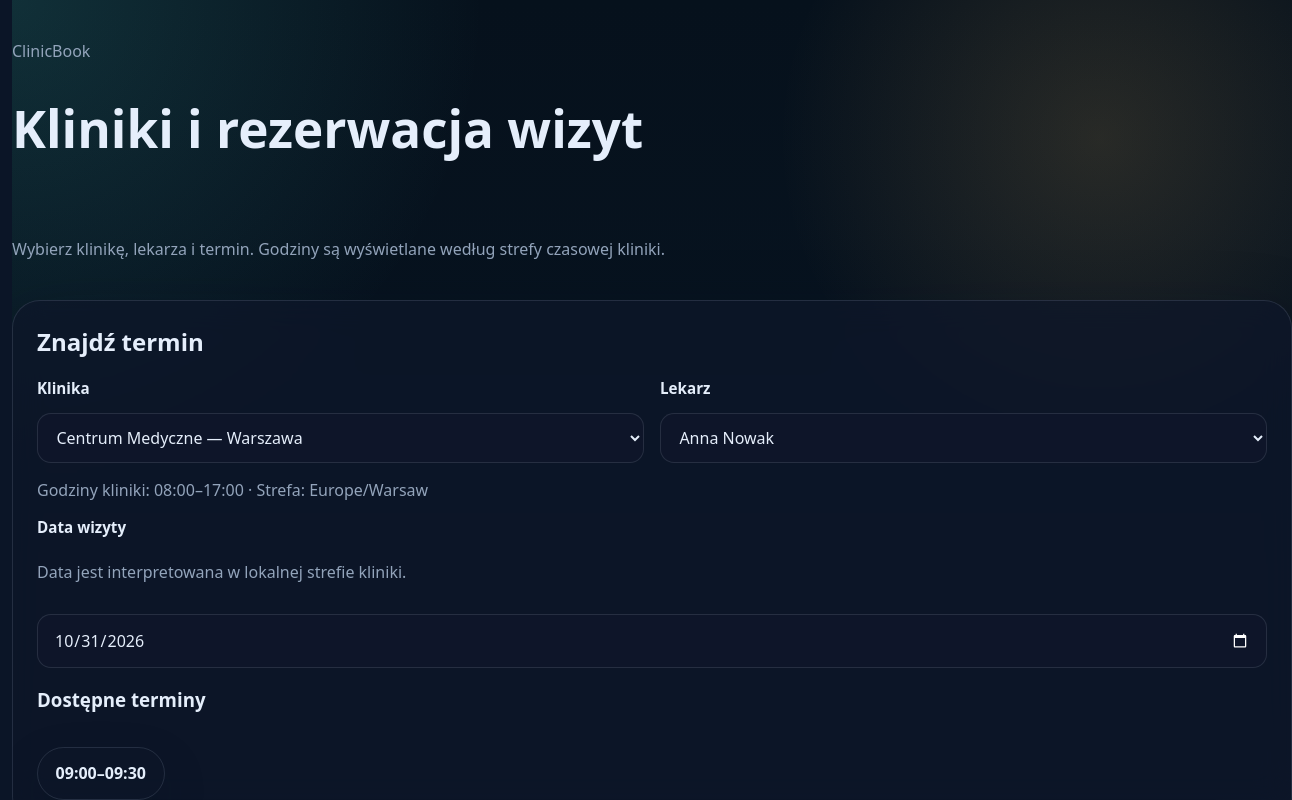
Test: Clinics page › shows a booking conflict and refreshes the available slots
What coordinates should you click on to do the following:
click the button "09:00–09:30"
I would click on:
 (101, 773)
Its box is x1=37 y1=747 x2=164 y2=799.
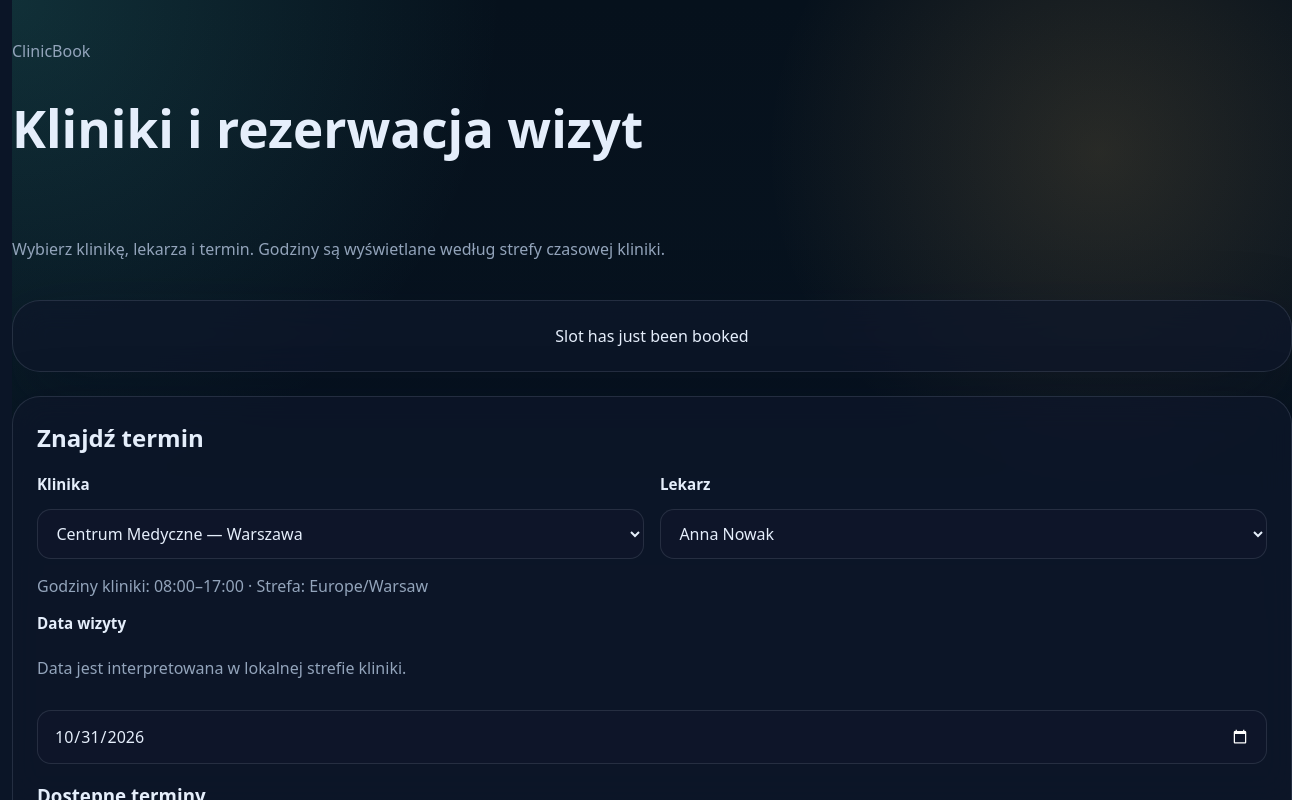
Expected: the message reads "Slot has just been booked", x1=555 y1=325 x2=749 y2=347
